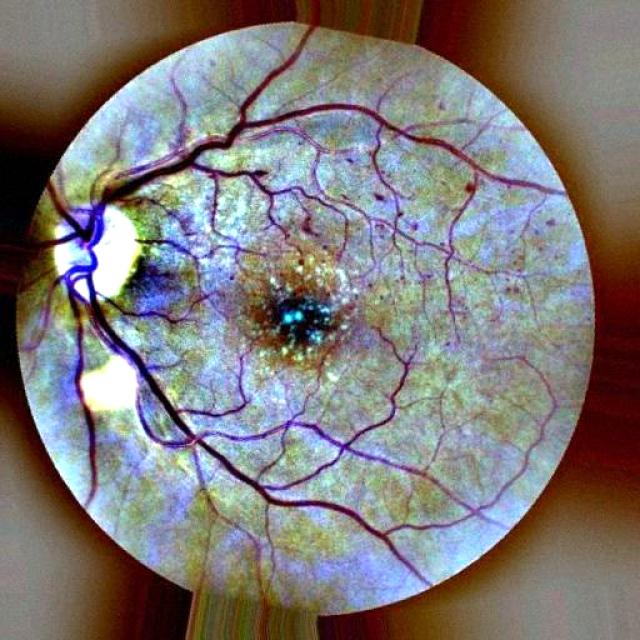Macula: (257, 278, 346, 357)
Nerves: (75, 38, 516, 554)
Optic Disk: (51, 201, 146, 299)
